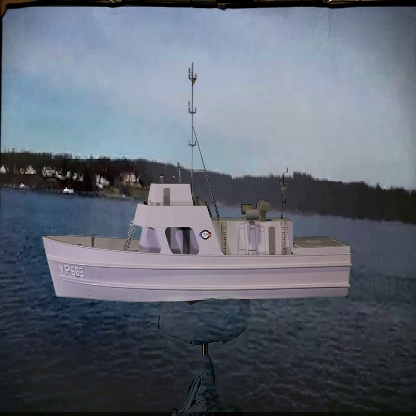YP689: (36, 54, 357, 305)
